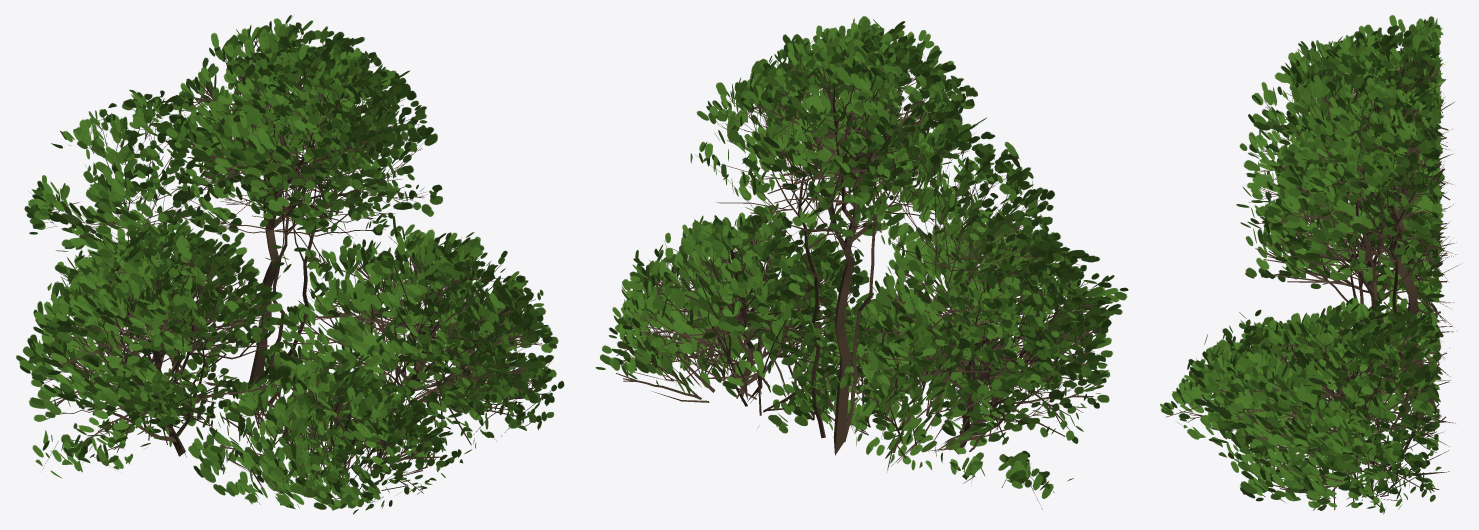
The picture shows the model from 3 angles, left to right: view 1: azimuth 30°, elevation 25°; view 2: azimuth 150°, elevation 25°; view 3: azimuth 270°, elevation 25°; orthographic projection. The views are drawn at different scales.
Parts seen in each view (by area): view 1: oak 01.001_trunk_Mat.001_0.487; view 2: oak 01.001_trunk_Mat.001_0.487; view 3: oak 01.001_trunk_Mat.001_0.487.
Part boxes in pixels (x1=…): oak 01.001_trunk_Mat.001_0.487: x1=16, y1=15, x2=564, y2=514; oak 01.001_trunk_Mat.001_0.487: x1=595, y1=16, x2=1128, y2=509; oak 01.001_trunk_Mat.001_0.487: x1=1160, y1=15, x2=1458, y2=514.
Bounding box in the file's own units: 5.94 × 4.76 × 3.3.
2 materials, 1 textured.
